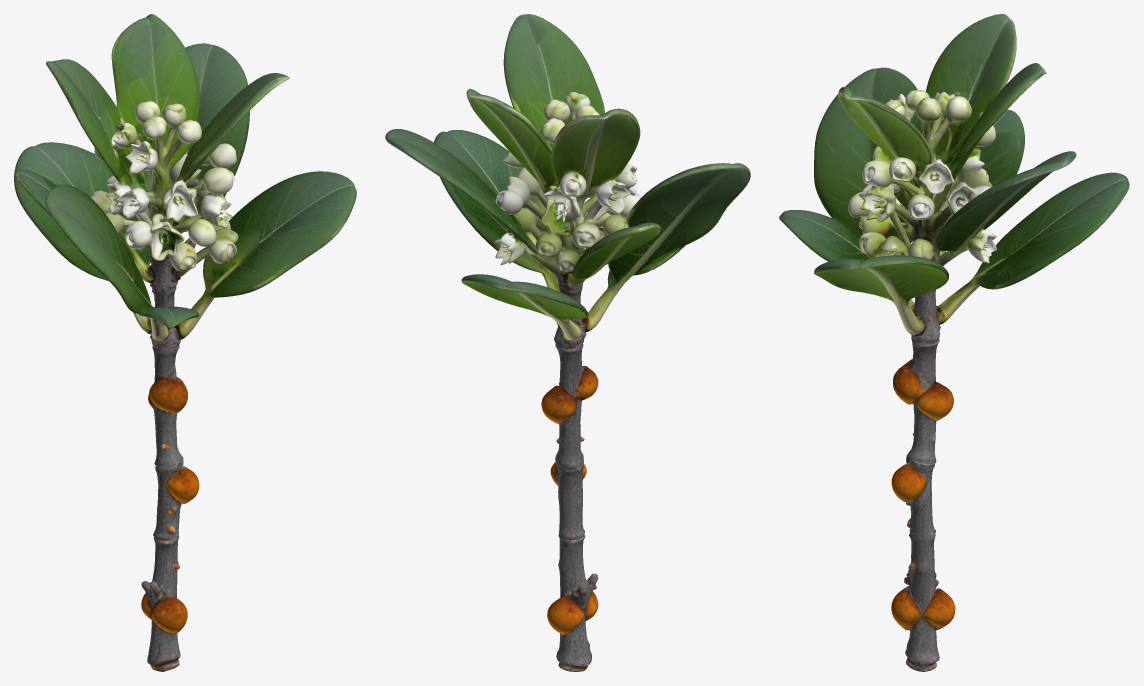
File: anxixiang.glb
3 views of the same model, side by side, from view 1: azimuth 30°, elevation 25°; view 2: azimuth 150°, elevation 25°; view 3: azimuth 270°, elevation 25° (orthographic). The views are drawn at different scales.
Visible parts, largest first — view 1: node_0; view 2: node_0; view 3: node_0.
Part boxes in pixels (x1=…): node_0: x1=14, y1=14, x2=356, y2=671; node_0: x1=385, y1=14, x2=750, y2=671; node_0: x1=779, y1=14, x2=1129, y2=671.
Size of the model in its own units: 0.5883 by 1.12 by 0.575.
Materials: 1 (1 with a texture image).
